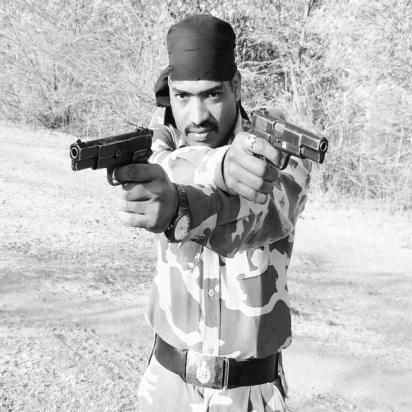Gun: (67, 122, 158, 228), (236, 108, 332, 206)
